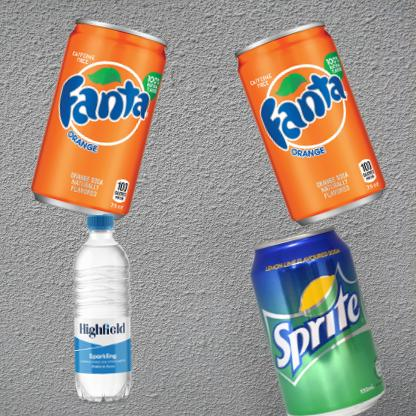botella: (10, 213, 192, 409)
lata: (213, 10, 416, 269), (10, 10, 204, 249), (213, 213, 416, 416)
